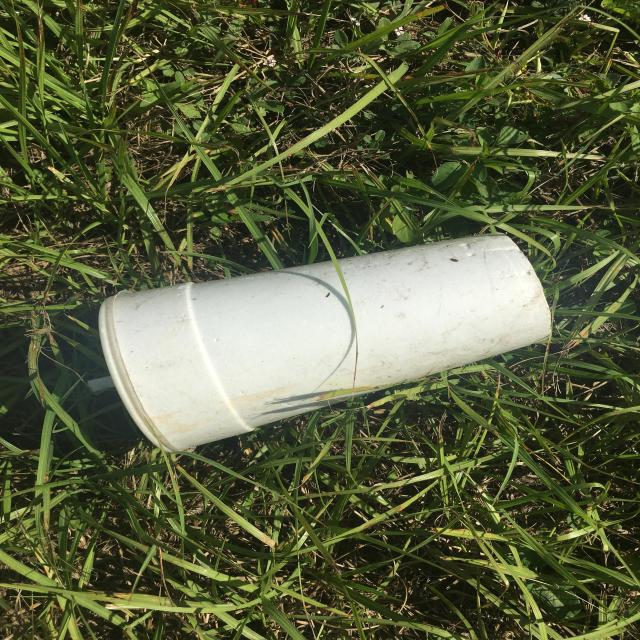litter: (98, 232, 552, 453), (98, 289, 184, 453), (88, 376, 113, 393)
